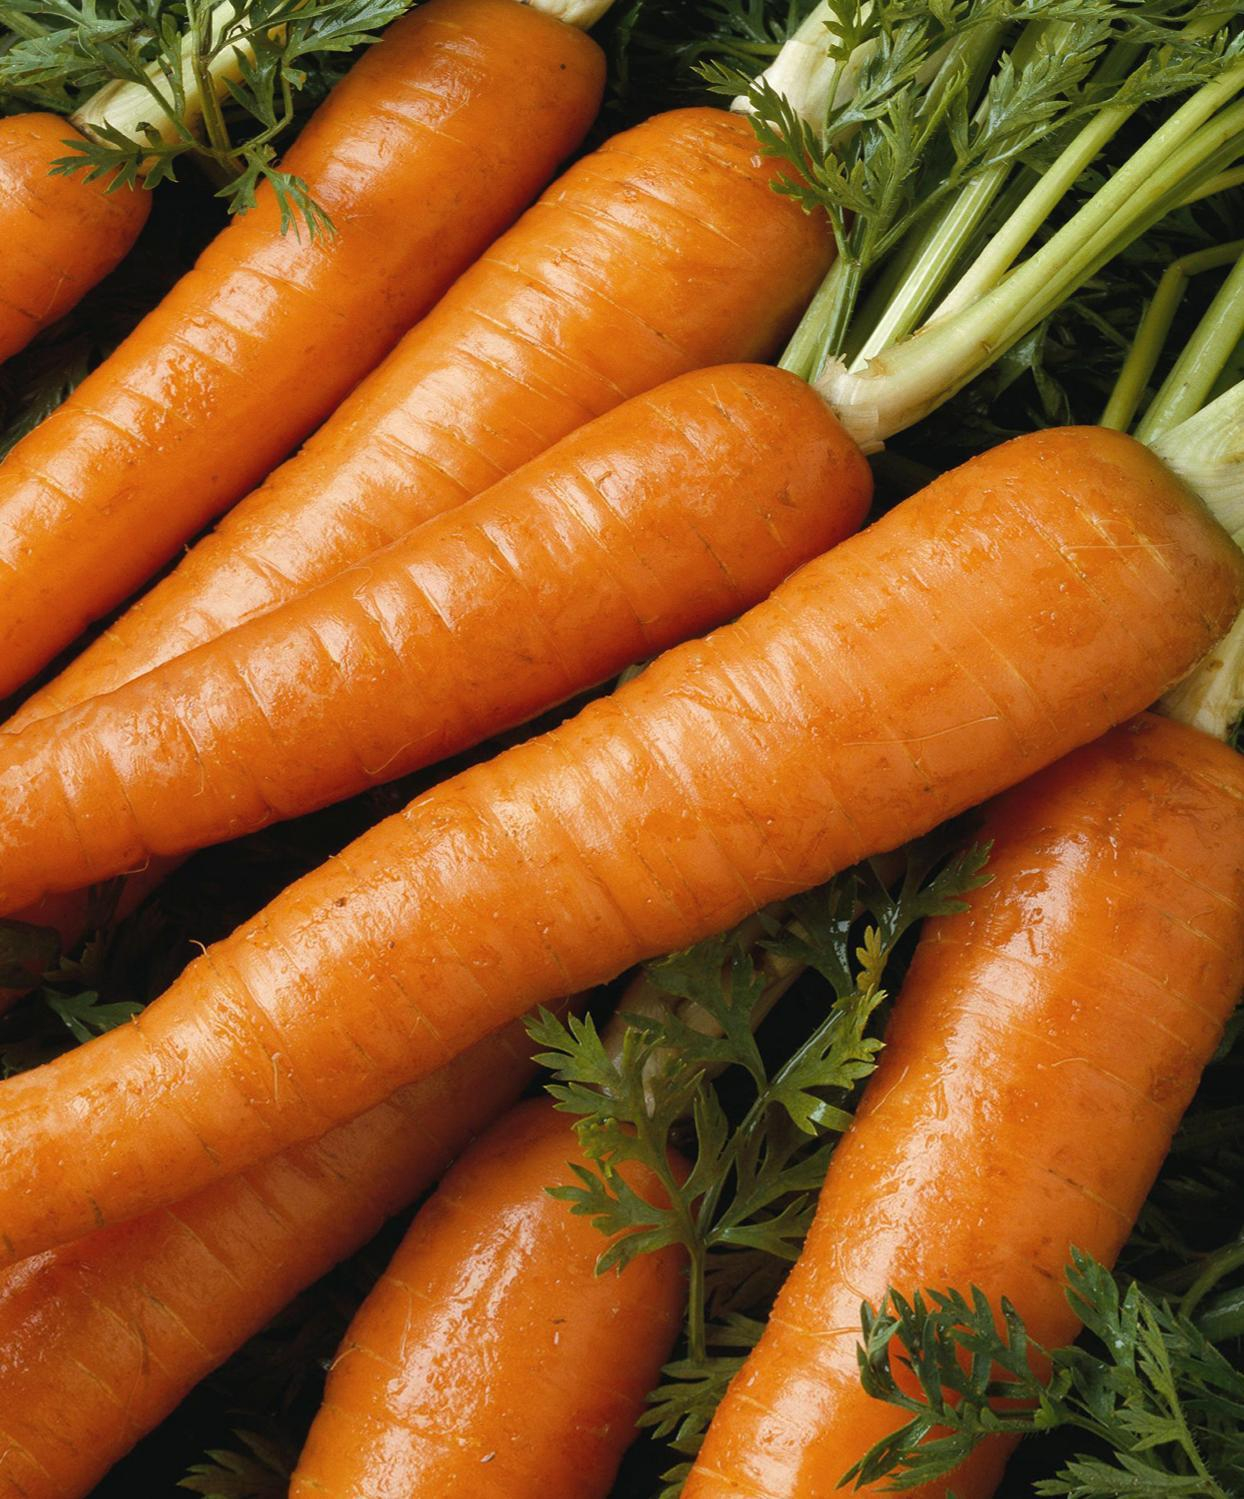carrot: (111, 5, 1244, 1499), (0, 393, 1233, 1499)
